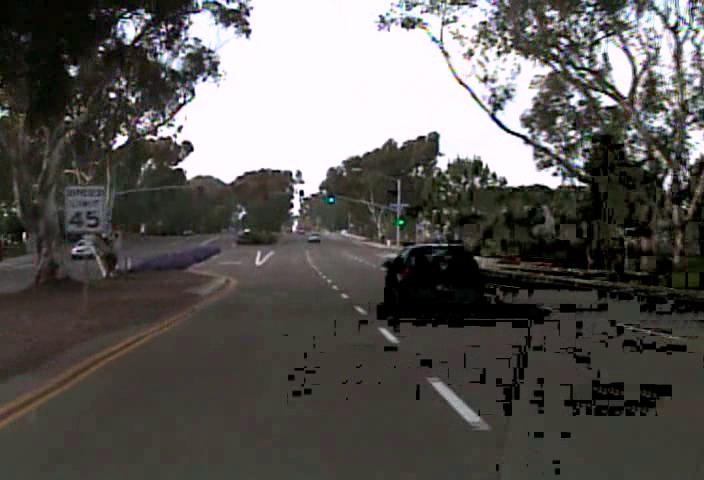speedLimit45: (63, 183, 107, 233)
